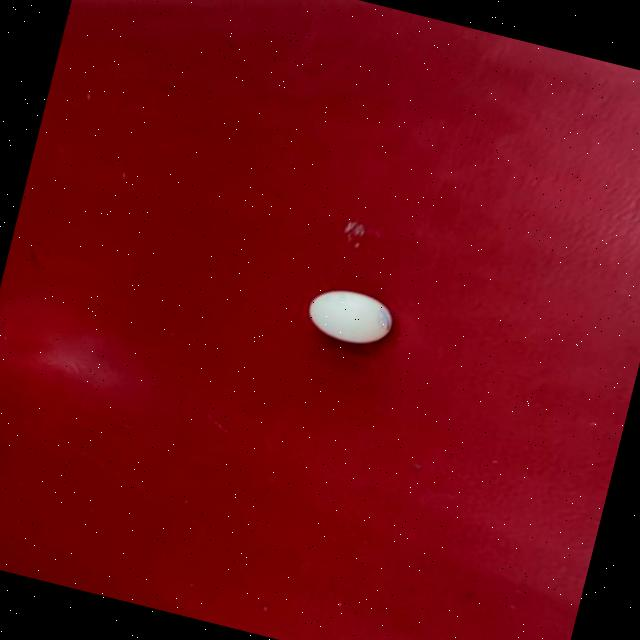ping-pong-ball: (300, 280, 400, 354)
